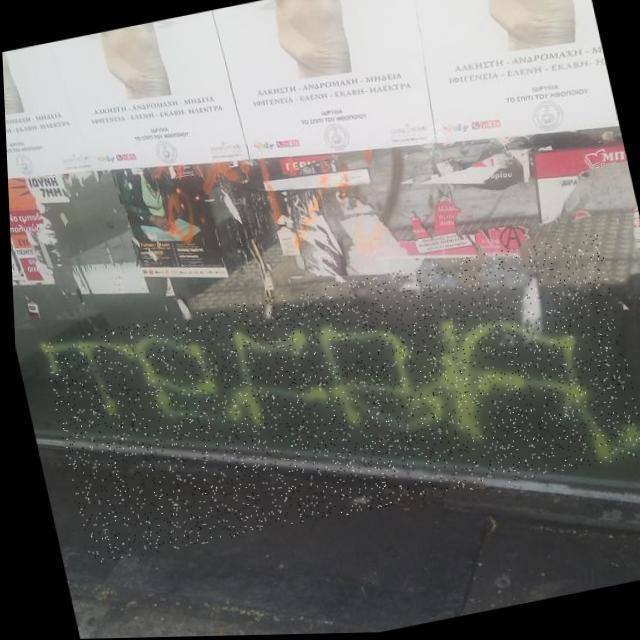-: (34, 233, 640, 567)
